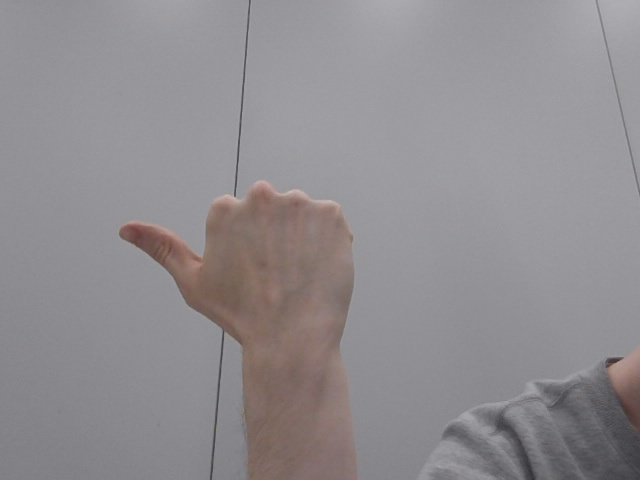right: (100, 174, 399, 380)
